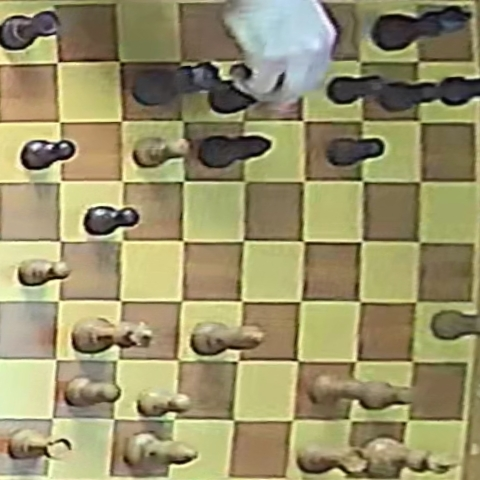black-bishop: (198, 134, 271, 168)
black-king: (373, 5, 470, 51)
black-knight: (206, 71, 280, 114)
black-pawn: (381, 81, 442, 112), (328, 75, 390, 105), (326, 137, 385, 166), (85, 205, 139, 236), (22, 139, 76, 170), (439, 72, 480, 109)
black-queen: (131, 61, 222, 107)
black-rook: (1, 10, 62, 51)
white-bishop: (125, 432, 199, 469), (192, 322, 264, 354), (18, 259, 71, 286)
white-king: (362, 437, 456, 477)
white-pawn: (309, 374, 365, 405), (133, 137, 189, 168), (66, 377, 119, 407), (357, 381, 410, 408), (432, 311, 479, 341), (137, 390, 189, 417)
white-queen: (71, 317, 153, 352)
white-rook: (294, 443, 370, 476), (7, 430, 72, 461)
